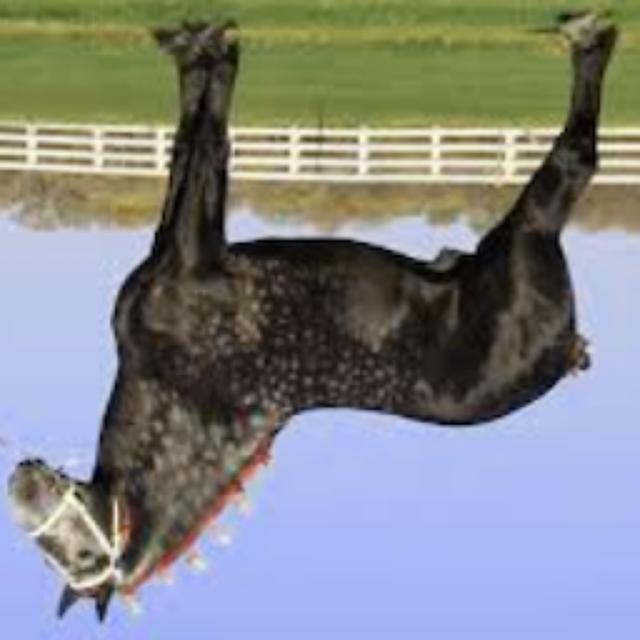Horse: (0, 5, 632, 630)
